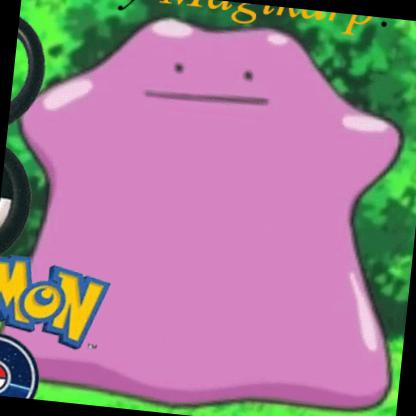Ditto: (1, 6, 416, 416)
